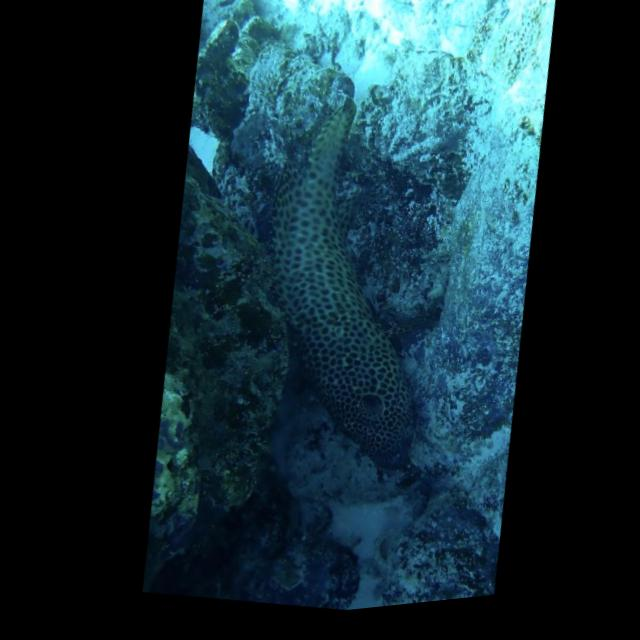Groupers: (206, 48, 484, 497)
